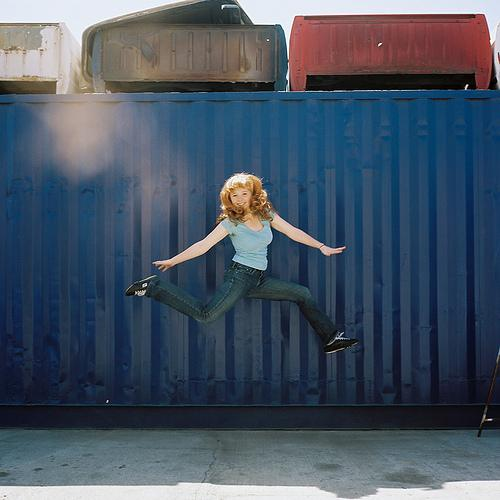person: (127, 171, 361, 355)
